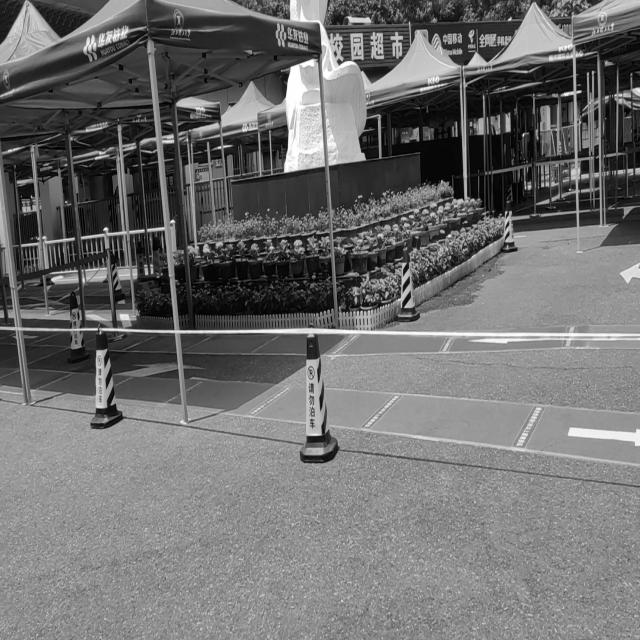reflective_cone: (299, 324, 338, 462), (90, 323, 122, 429), (395, 242, 420, 321), (67, 290, 90, 364), (498, 194, 518, 252), (110, 252, 124, 301), (134, 238, 146, 282), (152, 238, 162, 276)
